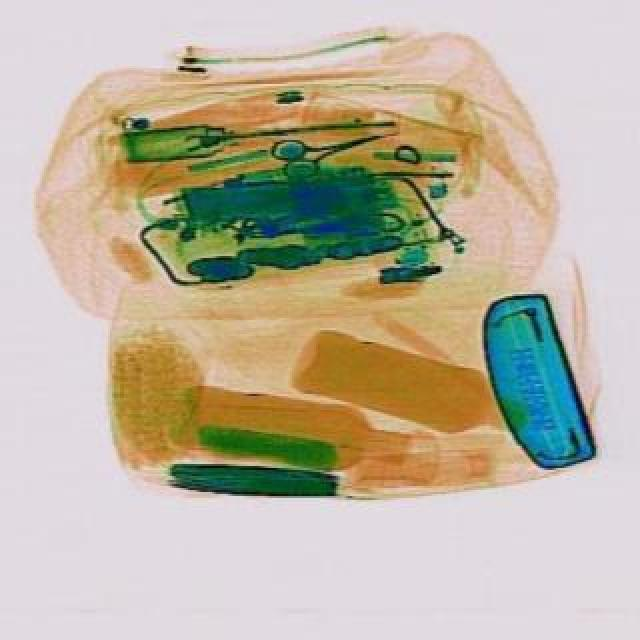pliers: (264, 108, 404, 184)
